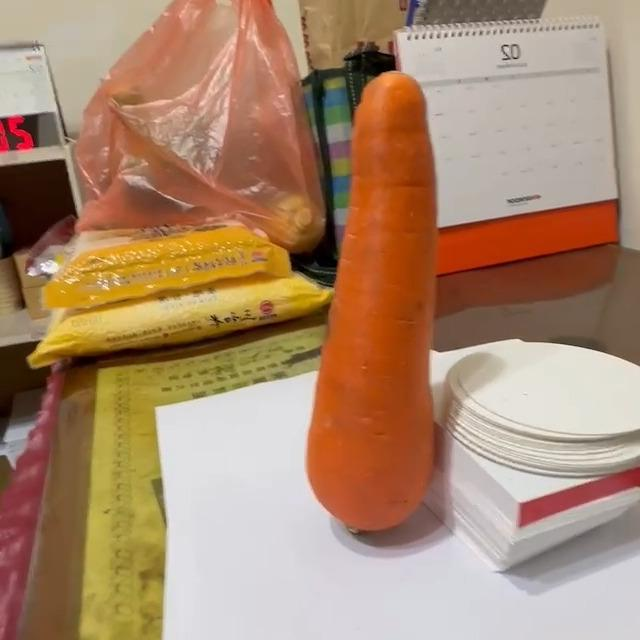carrot: (297, 72, 442, 539)
